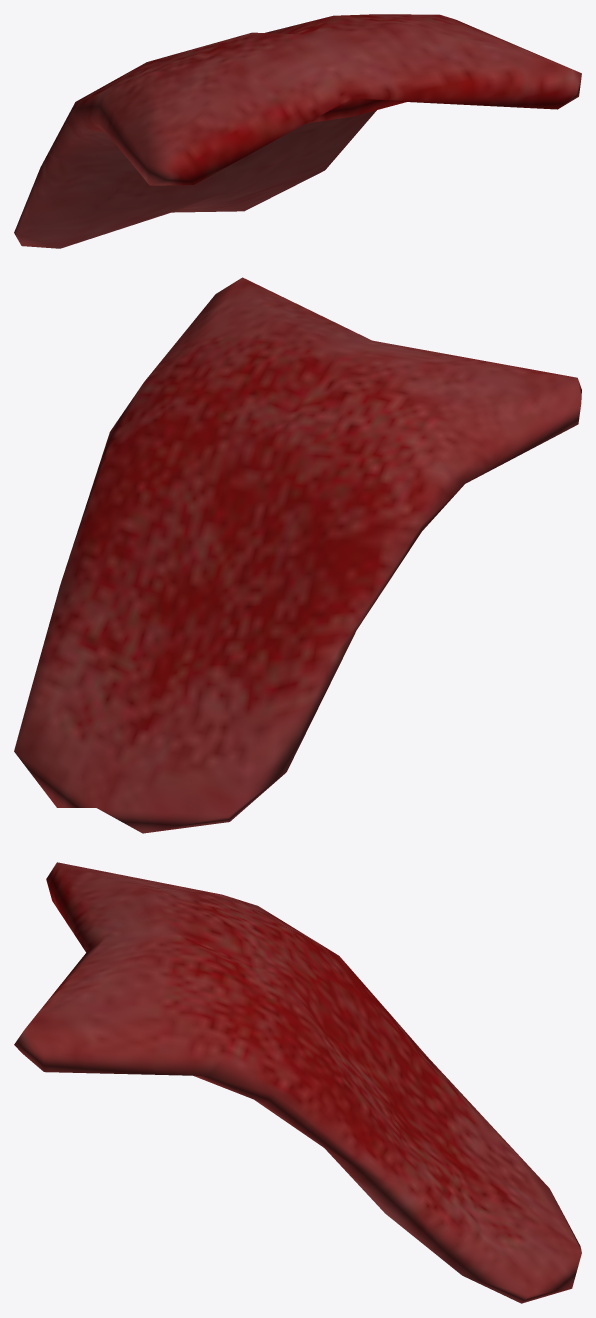
File: Soft_Palate.glb
3 views of the same model, one above another, from view 1: azimuth 30°, elevation 25°; view 2: azimuth 150°, elevation 25°; view 3: azimuth 270°, elevation 25° (orthographic). The views are drawn at different scales.
Visible parts, largest first — view 1: soft_palate.004; view 2: soft_palate.004; view 3: soft_palate.004.
Boxes of the visible parts, bbox=[...] form: soft_palate.004: bbox=[14, 14, 581, 248]; soft_palate.004: bbox=[14, 277, 581, 833]; soft_palate.004: bbox=[14, 862, 581, 1303].
Bounding box in the file's own units: 0.0848 × 0.0692 × 0.1098.
Materials: 1 (1 with a texture image).
